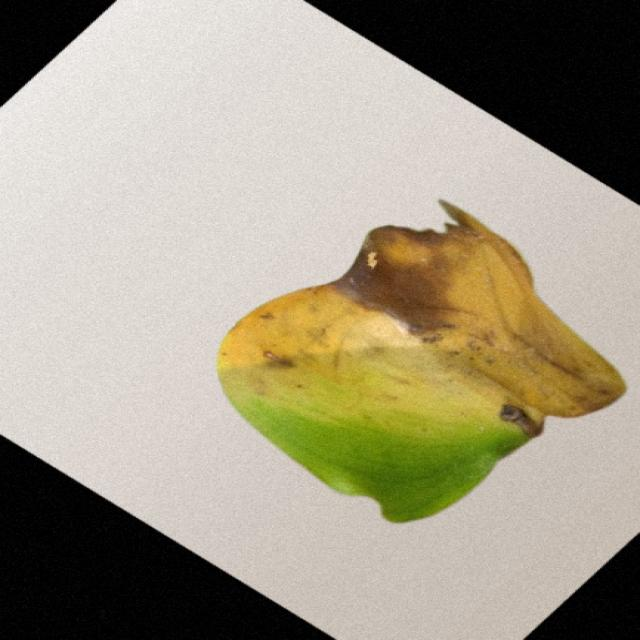daun berpenyakit kuning: (217, 201, 625, 522)
